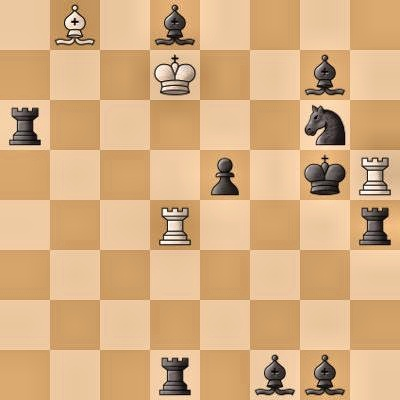black-bishop: (150, 0, 200, 50), (300, 50, 350, 100), (250, 350, 300, 400), (300, 350, 350, 400)
black-king: (300, 150, 350, 200)
black-knight: (300, 100, 350, 150)
black-pawn: (200, 150, 250, 200)
black-rook: (0, 100, 50, 150), (350, 200, 400, 250), (150, 350, 200, 400)
white-bishop: (50, 0, 100, 50)
white-king: (150, 50, 200, 100)
white-rook: (350, 150, 400, 200), (150, 200, 200, 250)
